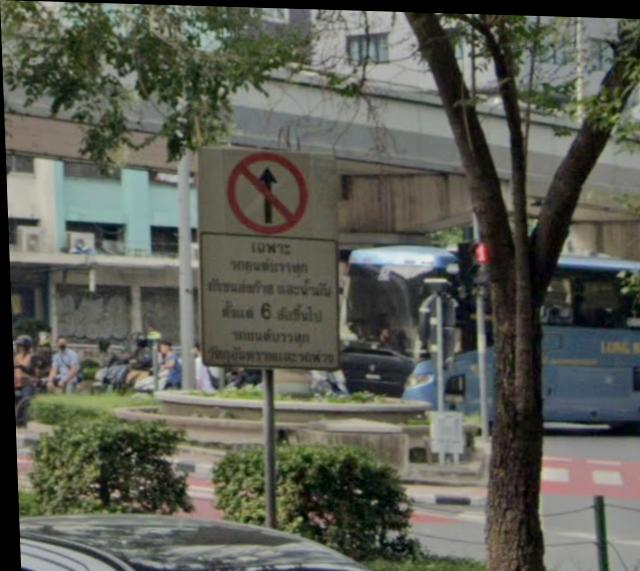not_go_straight: (214, 148, 321, 236)
